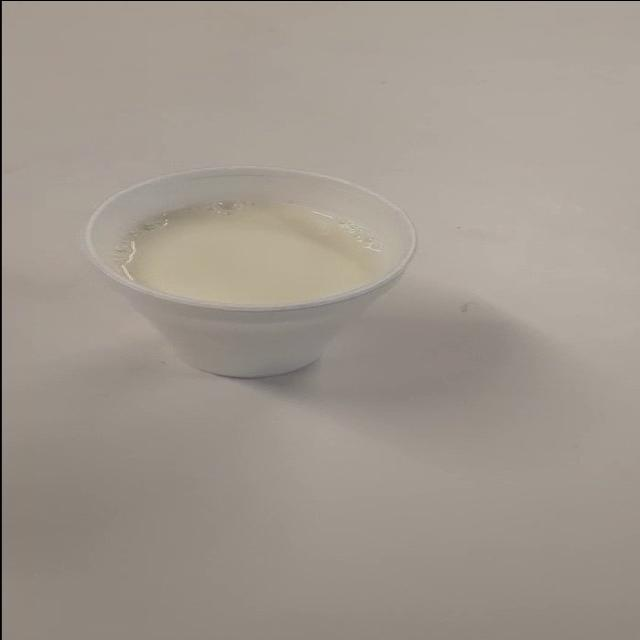Milk: (81, 149, 471, 405)
